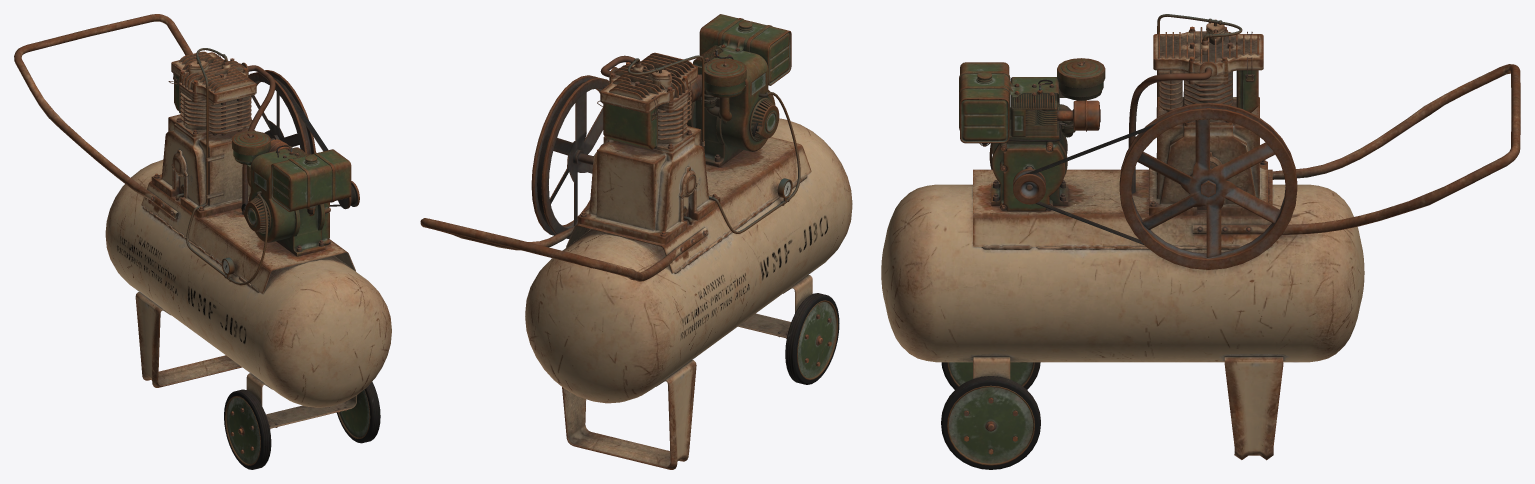
The model's file is lf-compressor.glb.
3 renders of one model, left to right at view 1: azimuth 30°, elevation 25°; view 2: azimuth 150°, elevation 25°; view 3: azimuth 270°, elevation 25°, orthographic. The views are drawn at different scales.
Visible parts, largest first — view 1: old_military_compressor; view 2: old_military_compressor; view 3: old_military_compressor.
Part boxes in pixels (box(x1,y1,x2,y2)): old_military_compressor: box(14, 14, 391, 469); old_military_compressor: box(420, 14, 852, 469); old_military_compressor: box(881, 14, 1520, 469).
Size of the model in its own units: 0.5983 by 1.18 by 1.68.
Materials: 2 (2 with a texture image).
